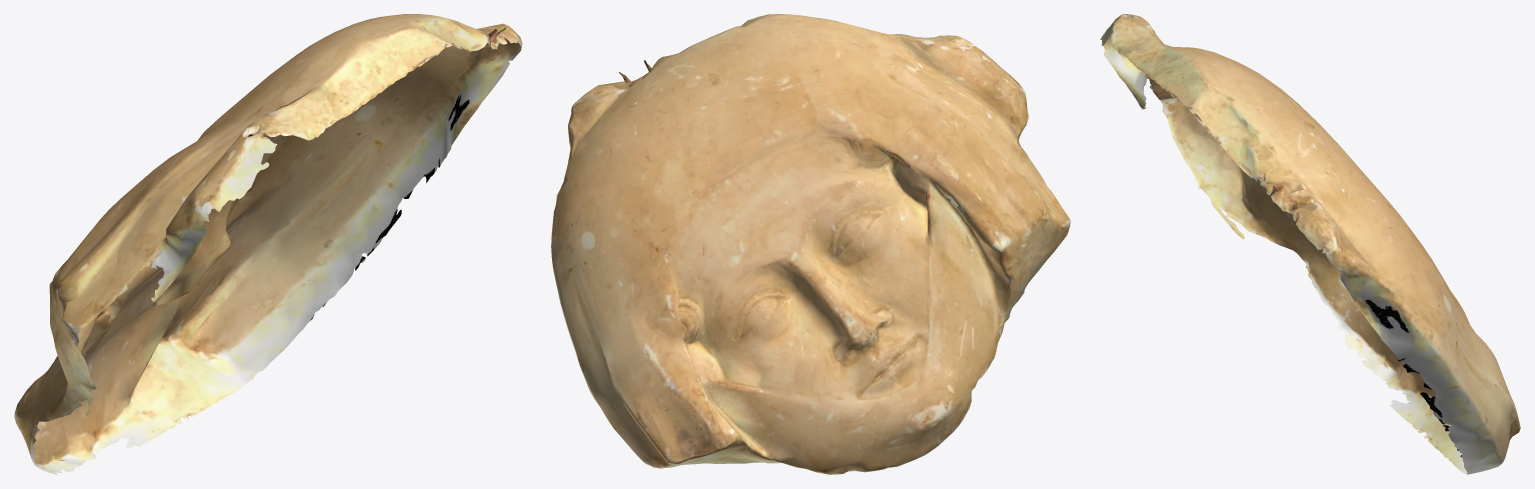
File: 20120001-BKD-DeathMask_Low-transformed.glb
The picture shows the model from 3 angles, left to right: view 1: azimuth 30°, elevation 25°; view 2: azimuth 150°, elevation 25°; view 3: azimuth 270°, elevation 25°; orthographic projection. The views are drawn at different scales.
Parts seen in each view (by area): view 1: 20120001-BKD-DeathMask_Low; view 2: 20120001-BKD-DeathMask_Low; view 3: 20120001-BKD-DeathMask_Low.
Boxes of the visible parts, x1=… form: 20120001-BKD-DeathMask_Low: x1=14, y1=14, x2=522, y2=474; 20120001-BKD-DeathMask_Low: x1=551, y1=14, x2=1070, y2=474; 20120001-BKD-DeathMask_Low: x1=1100, y1=14, x2=1520, y2=474.
Size of the model in its own units: 0.2364 by 0.1937 by 0.1846.
Materials: 1 (1 with a texture image).
